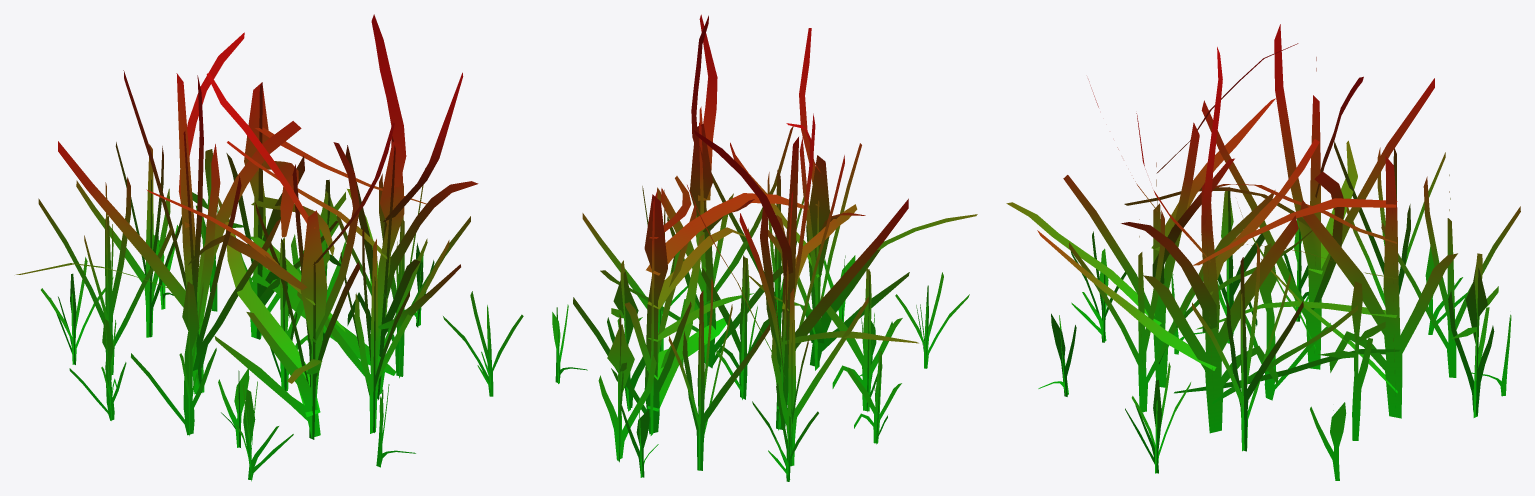
File: Var4_LOD0.fbx
3 views of the same model, side by side, from view 1: azimuth 30°, elevation 25°; view 2: azimuth 150°, elevation 25°; view 3: azimuth 270°, elevation 25° (orthographic). The views are drawn at different scales.
Parts seen in each view (by area): view 1: _xnog_Var4_LOD0; view 2: _xnog_Var4_LOD0; view 3: _xnog_Var4_LOD0.
Boxes of the visible parts, box(x1,y1,x2,y2) form: _xnog_Var4_LOD0: box(16, 14, 523, 481); _xnog_Var4_LOD0: box(552, 14, 977, 481); _xnog_Var4_LOD0: box(1006, 24, 1520, 480).
Size of the model in its own units: 21.97 by 20.08 by 24.22.
